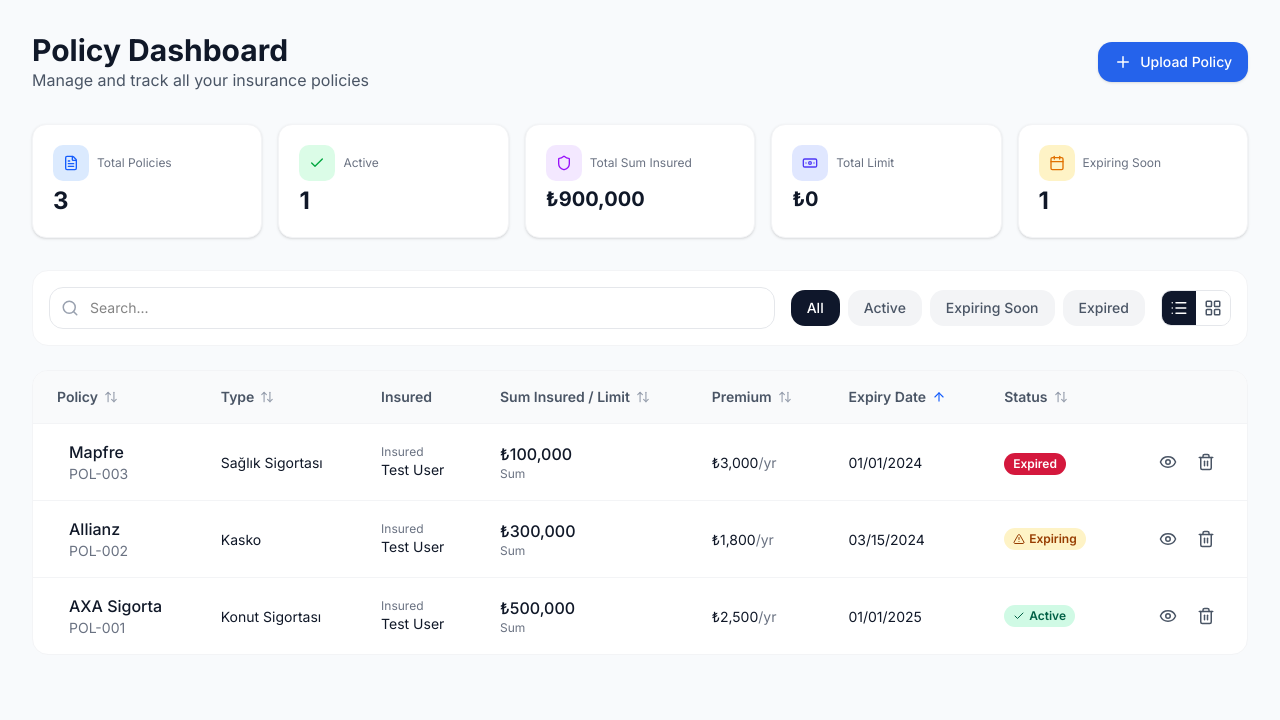
Test: PolicyDashboard › Status Filter › should show all policies when filter is set to all
Click the button "Active": (885,308) [848,290,922,326]
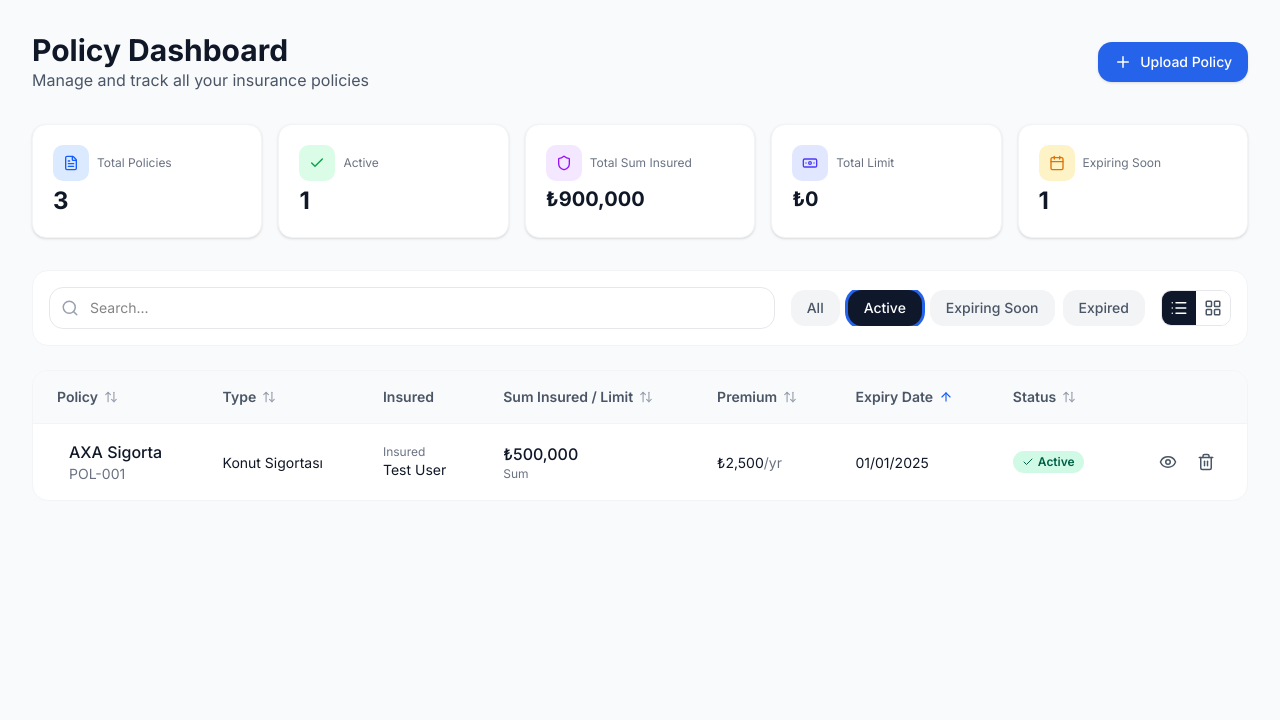
Note: Then click all to reset - first button is "All"
Click the button "All": (815,308) [791,290,840,326]
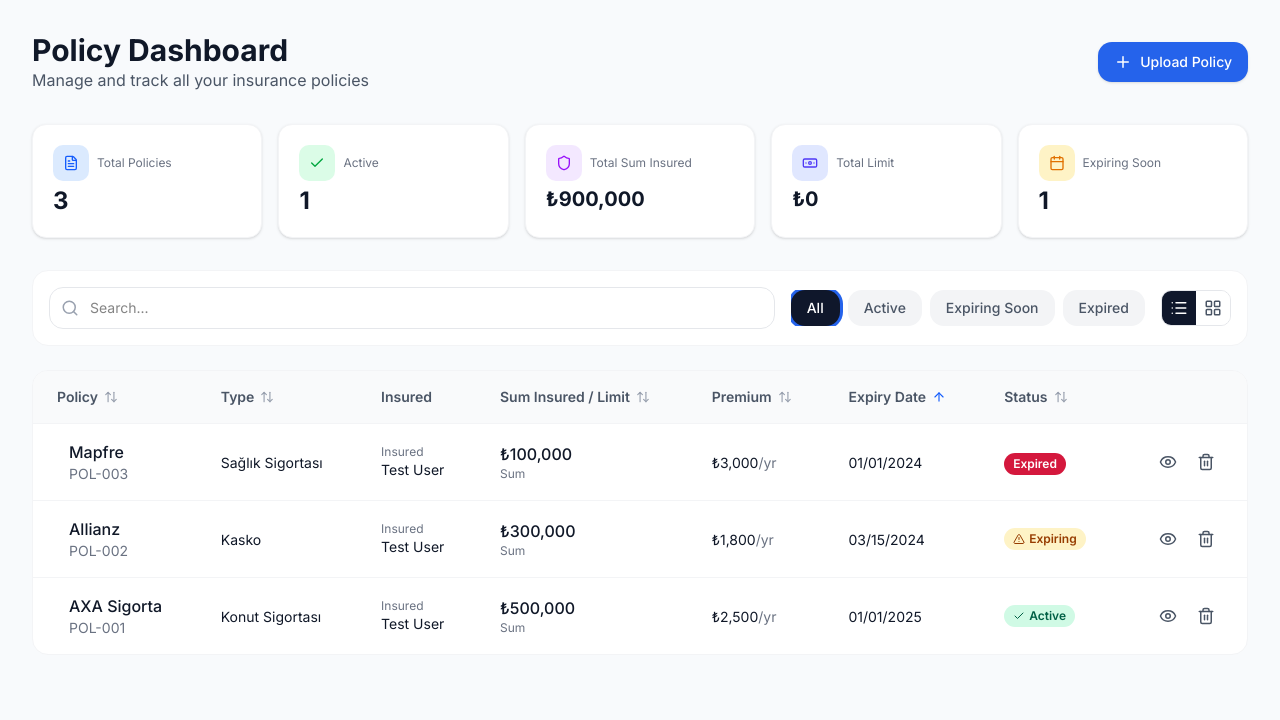
Check: the text "POL-001" is shown, box [69,619,125,636]
Check: the text "POL-002" is shown, box [69,541,128,561]
Check: the text "POL-003" is shown, box [69,464,128,484]
